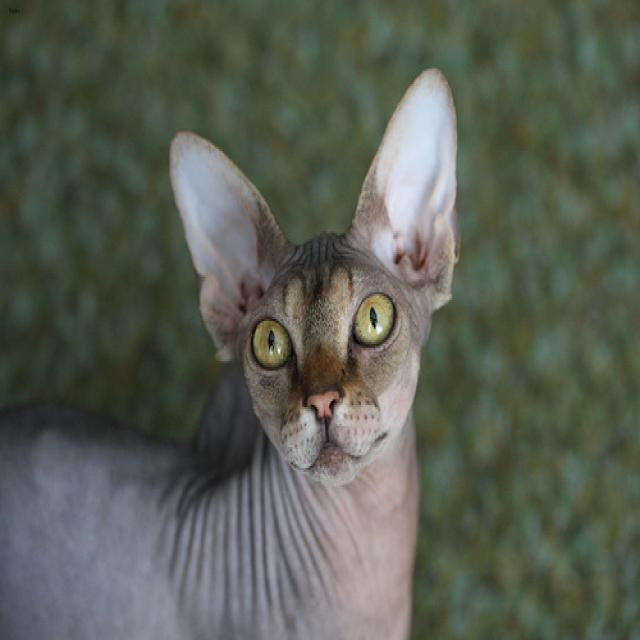Sphynx: (170, 56, 464, 489)
